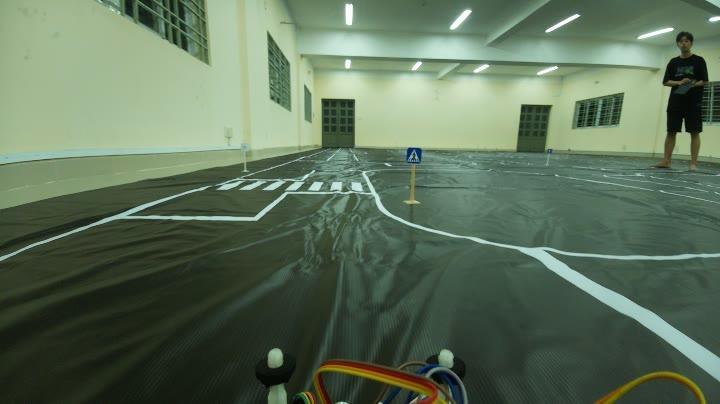crosswalk: (404, 143, 425, 172)
